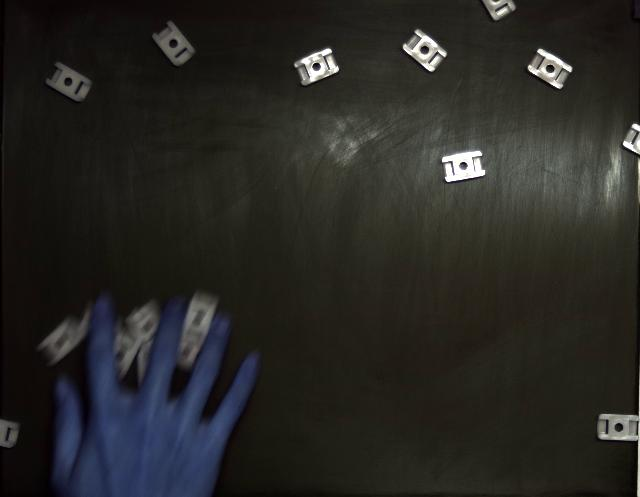second_side: (152, 21, 196, 66), (402, 29, 446, 72), (46, 62, 92, 102), (528, 49, 572, 89), (294, 49, 339, 86), (442, 151, 485, 182), (598, 414, 640, 441)
